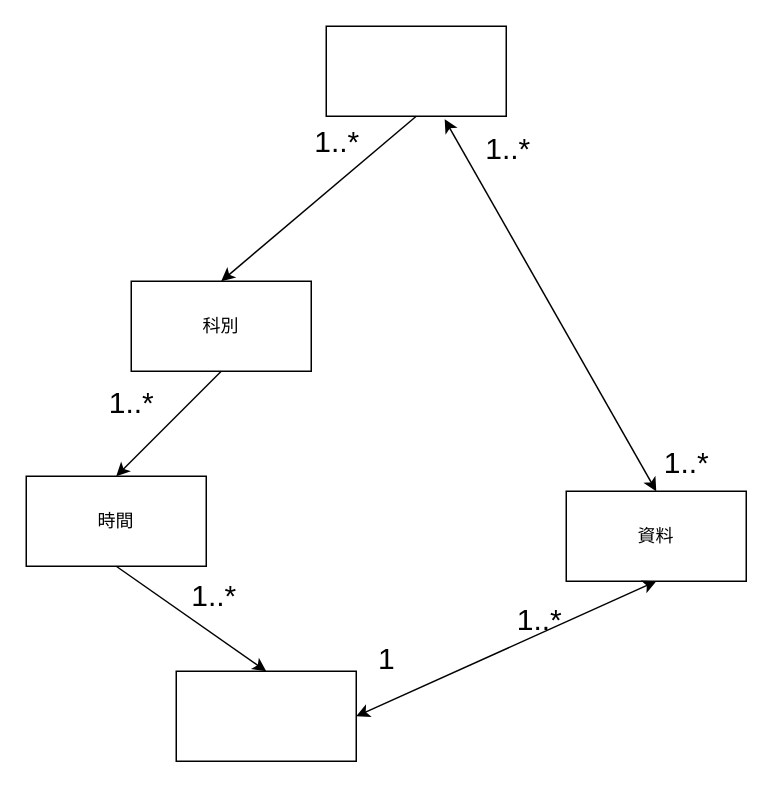
The diagram is 773 pixels wide and 788 high, and some of its shapes have lost their labels. The box of each missing label's shape, as (x1, y1, x2, y2) in pixels:
掛號: (325, 25, 506, 116)
醫師: (175, 670, 356, 761)
